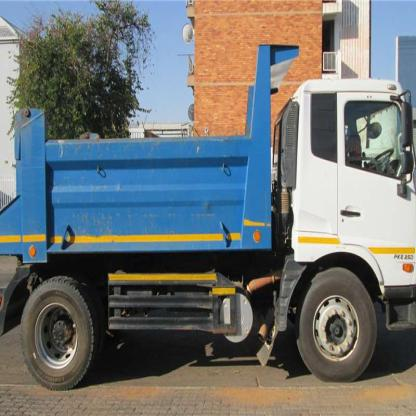dump_truck: (8, 32, 415, 392)
